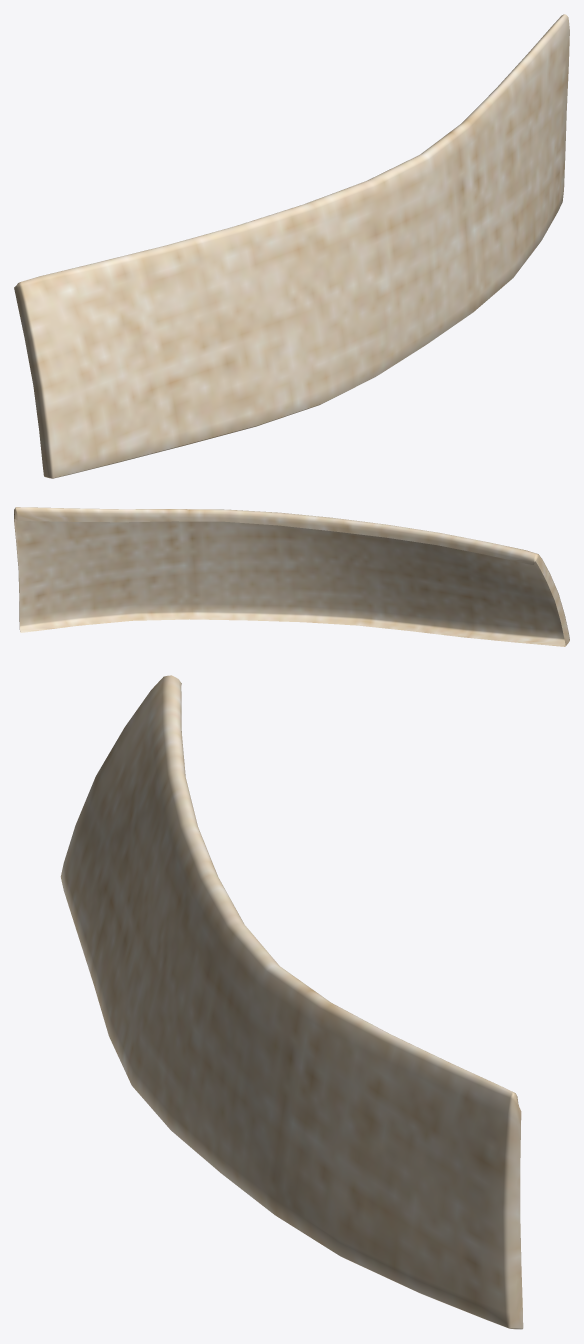
Rendered from upper_Normal_pocket.glb.
3 views of the same model, one above another, from view 1: azimuth 30°, elevation 25°; view 2: azimuth 150°, elevation 25°; view 3: azimuth 270°, elevation 25° (orthographic). The views are drawn at different scales.
Parts seen in each view (by area): view 1: upper_Normal_pocket; view 2: upper_Normal_pocket; view 3: upper_Normal_pocket.
Boxes of the visible parts, <box> form: upper_Normal_pocket: <box>14,14,569,478</box>; upper_Normal_pocket: <box>14,507,569,646</box>; upper_Normal_pocket: <box>60,675,523,1329</box>.
Size of the model in its own units: 0.0125 by 0.00332 by 0.00564.
Materials: 1 (1 with a texture image).
